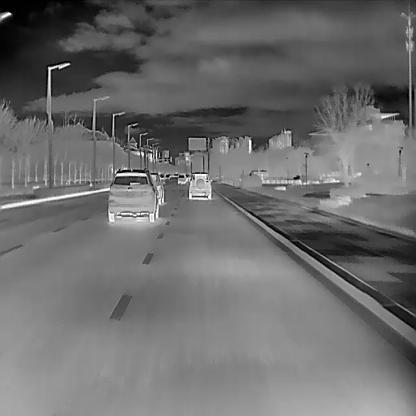car: (107, 167, 158, 221), (188, 171, 212, 199), (149, 171, 165, 204), (248, 169, 268, 180), (177, 174, 185, 184), (159, 173, 165, 180), (164, 173, 170, 179)
